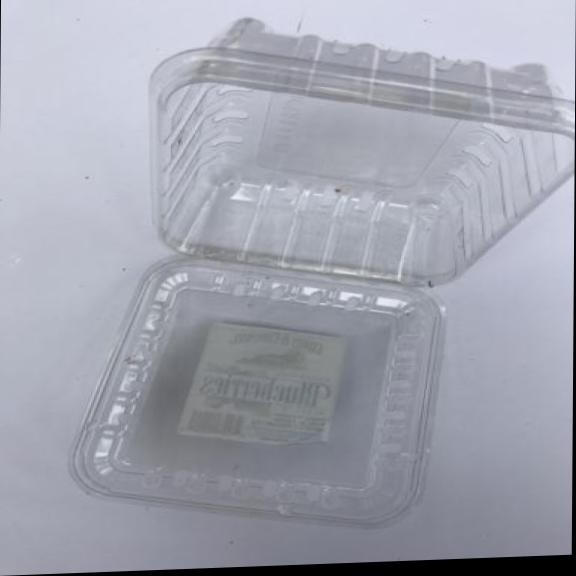Plastik: (127, 4, 576, 299), (64, 246, 452, 538)
